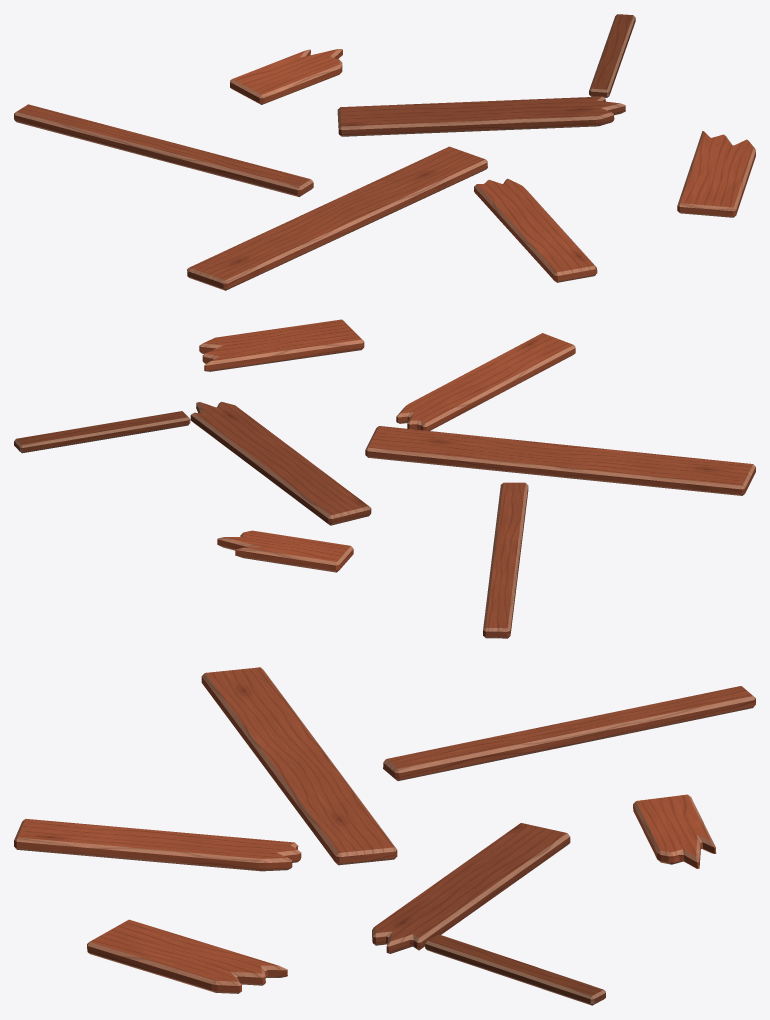
Rendered from broken_planks.glb.
3 renders of one model, top to bottom at view 1: azimuth 30°, elevation 25°; view 2: azimuth 150°, elevation 25°; view 3: azimuth 270°, elevation 25°, orthographic. The views are drawn at different scales.
Parts seen in each view (by area): view 1: planks; view 2: planks; view 3: planks.
Boxes of the visible parts, bbox=[...] form: planks: bbox=[14, 14, 755, 290]; planks: bbox=[14, 319, 755, 638]; planks: bbox=[14, 667, 755, 1005].
Size of the model in its own units: 2.97 by 0.1016 by 2.75.
1 material, 1 textured.
